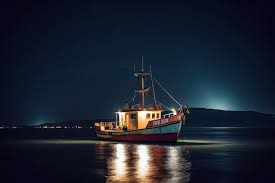boat: (93, 55, 191, 144)
